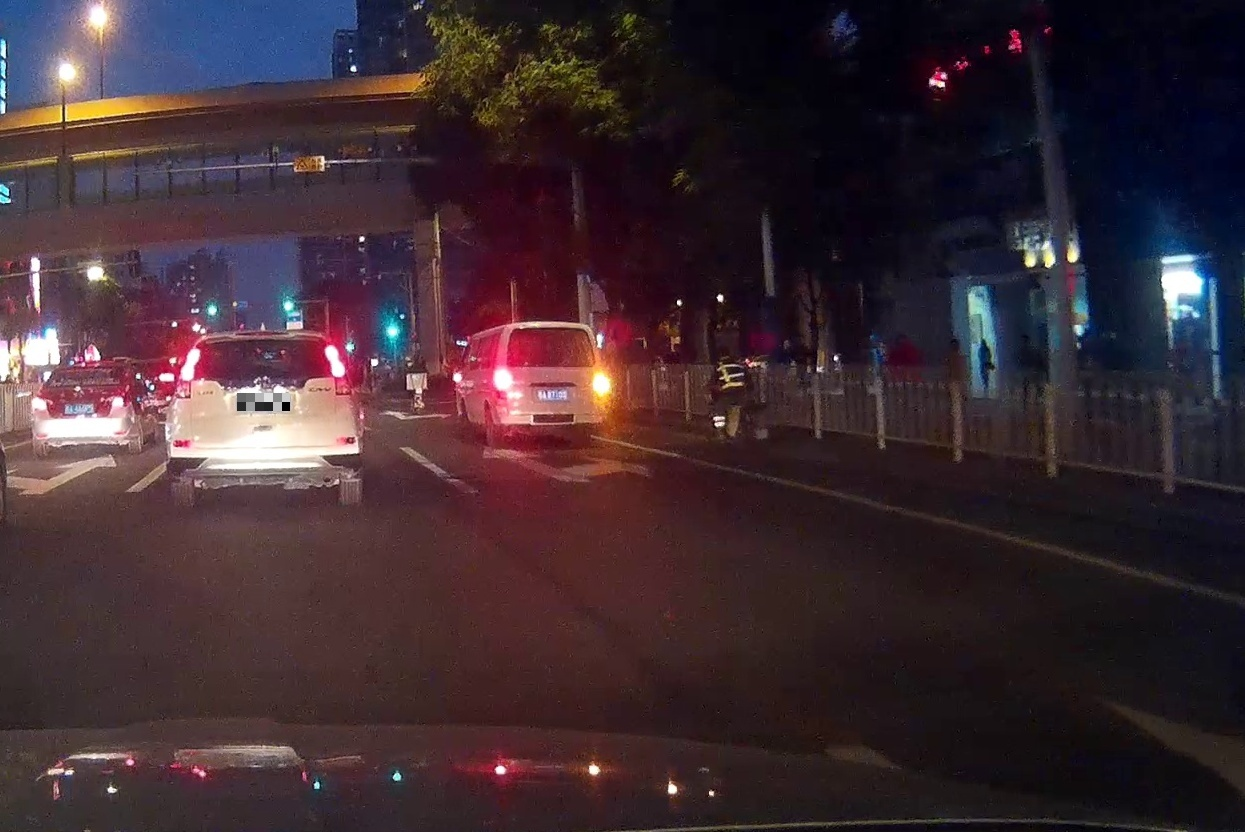L_light: (175, 349, 201, 397), (495, 369, 512, 399), (31, 397, 48, 410)
R_light: (323, 344, 354, 396), (592, 370, 606, 400), (110, 395, 128, 406)
T_light: (250, 338, 278, 347), (541, 328, 561, 334), (84, 368, 101, 375)
night-no: (166, 331, 363, 505), (30, 359, 132, 456)
night-right: (494, 321, 607, 446)
plate_1: (237, 393, 290, 411)
